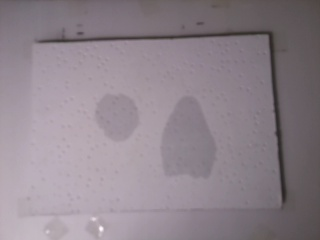Water_detected: (172, 104, 215, 166), (99, 101, 137, 140)
